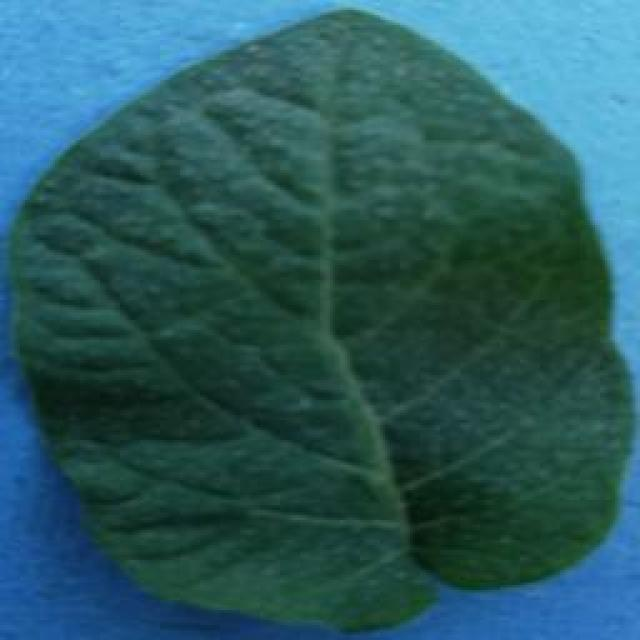Potato_Healthy: (11, 6, 623, 631)
